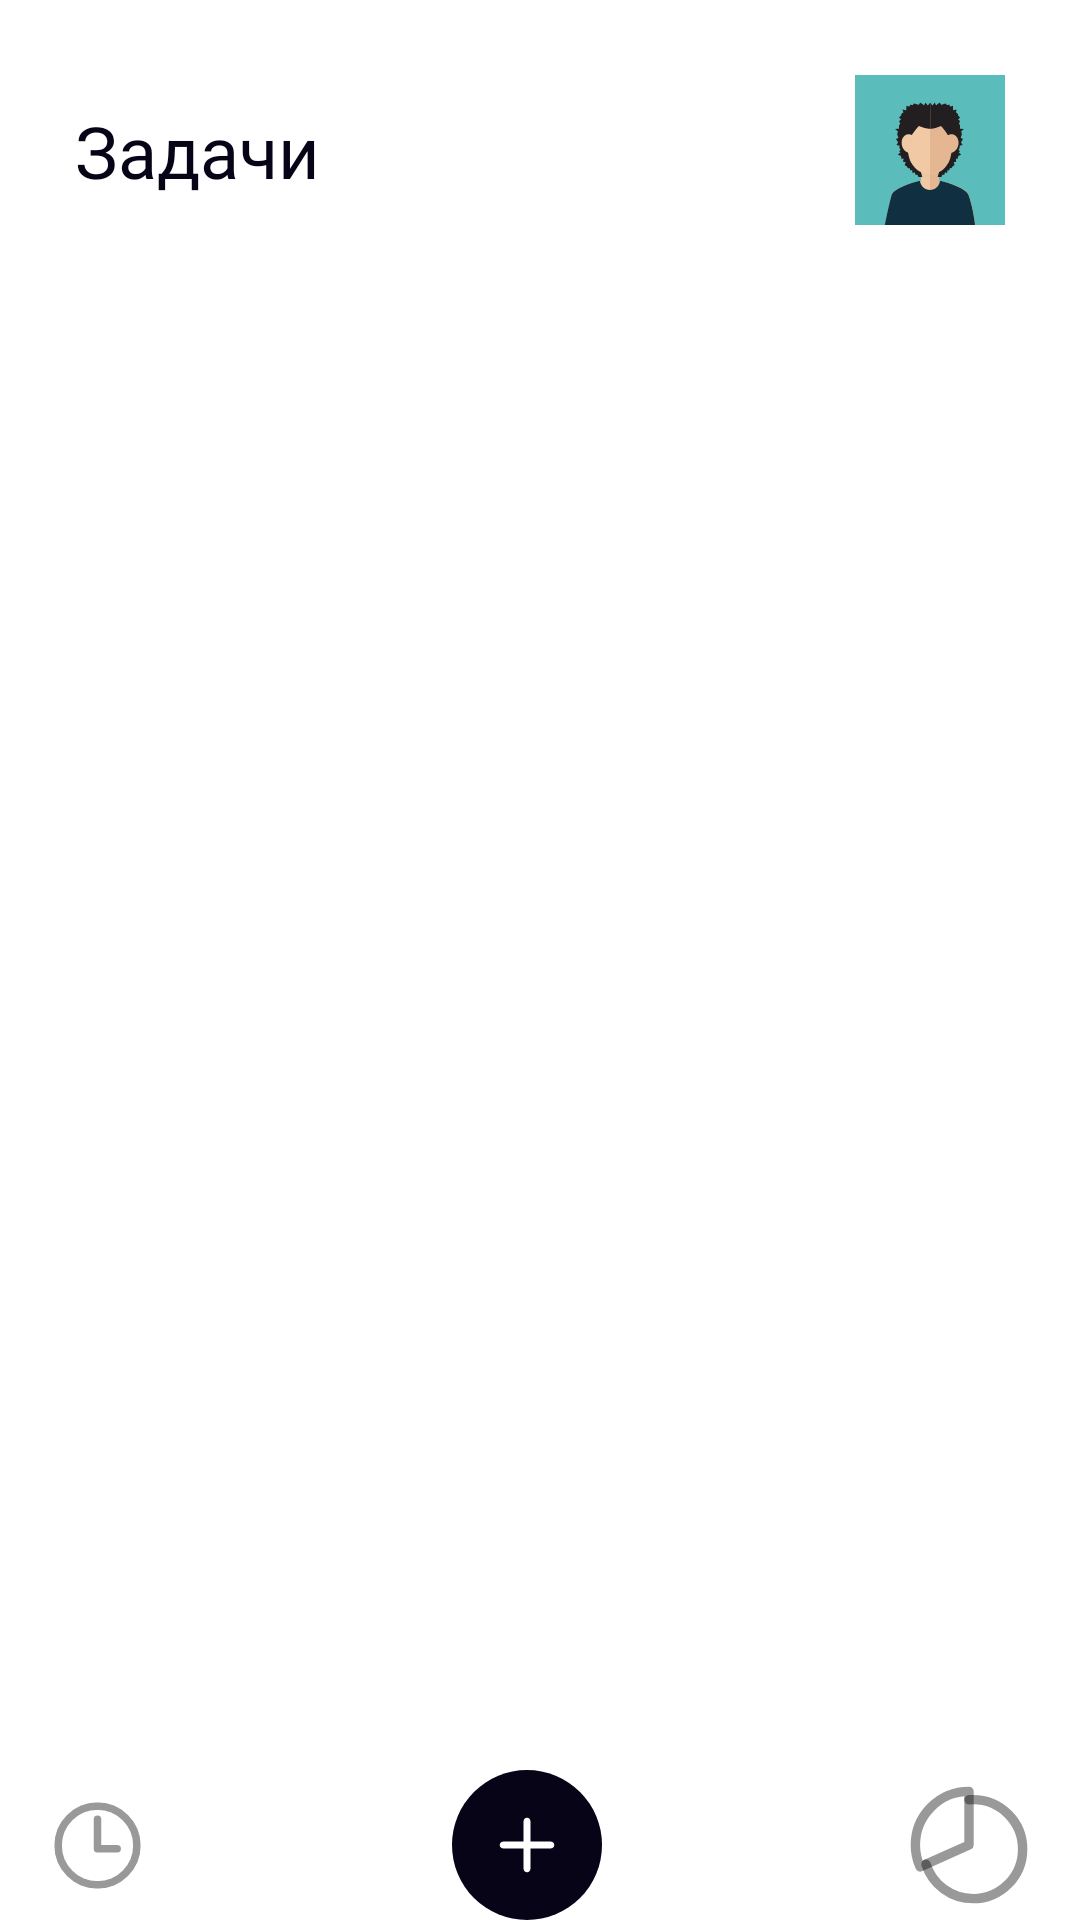

Icon click points for this 1080 x 1920 phone screenshot, format (x=x, y=y):
add: (x=527, y=1845)
profile: (x=930, y=150)
statics: (x=969, y=1845)
time: (x=97, y=1845)
